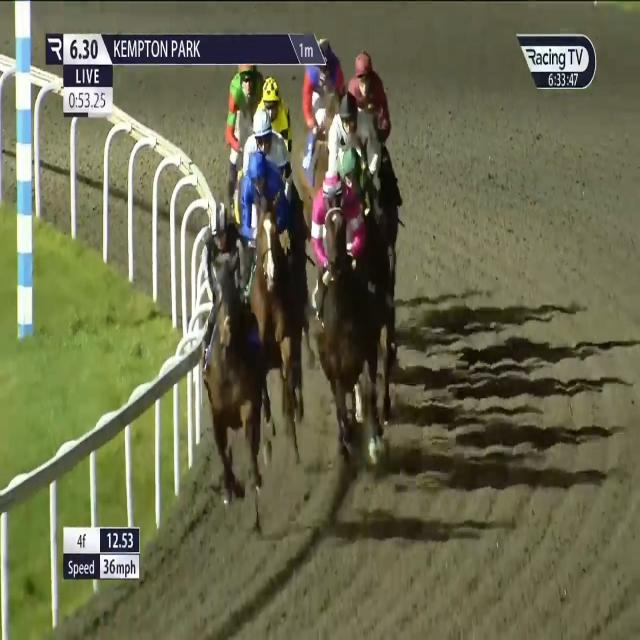horses-racing: (308, 170, 382, 471), (198, 202, 264, 497), (234, 154, 290, 451), (302, 41, 345, 200), (347, 49, 396, 147), (328, 91, 384, 175), (223, 60, 262, 171), (332, 145, 383, 227), (242, 104, 294, 184), (258, 77, 289, 165)
